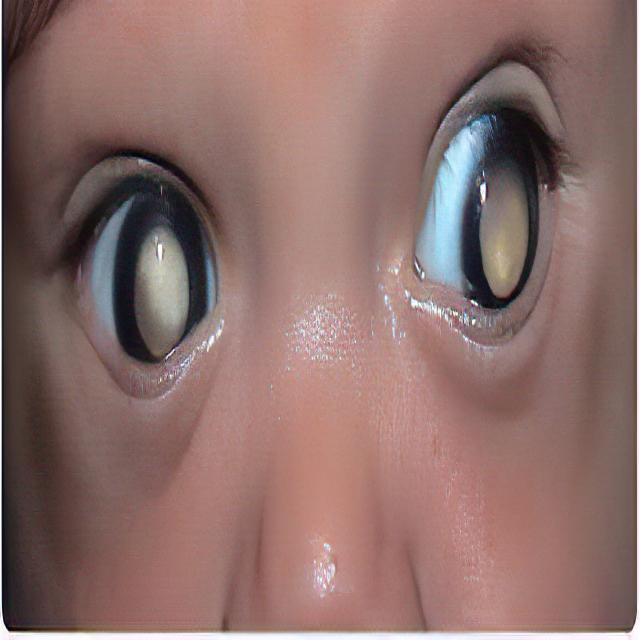reflexo-alterado: (384, 104, 568, 351), (60, 172, 232, 408)
